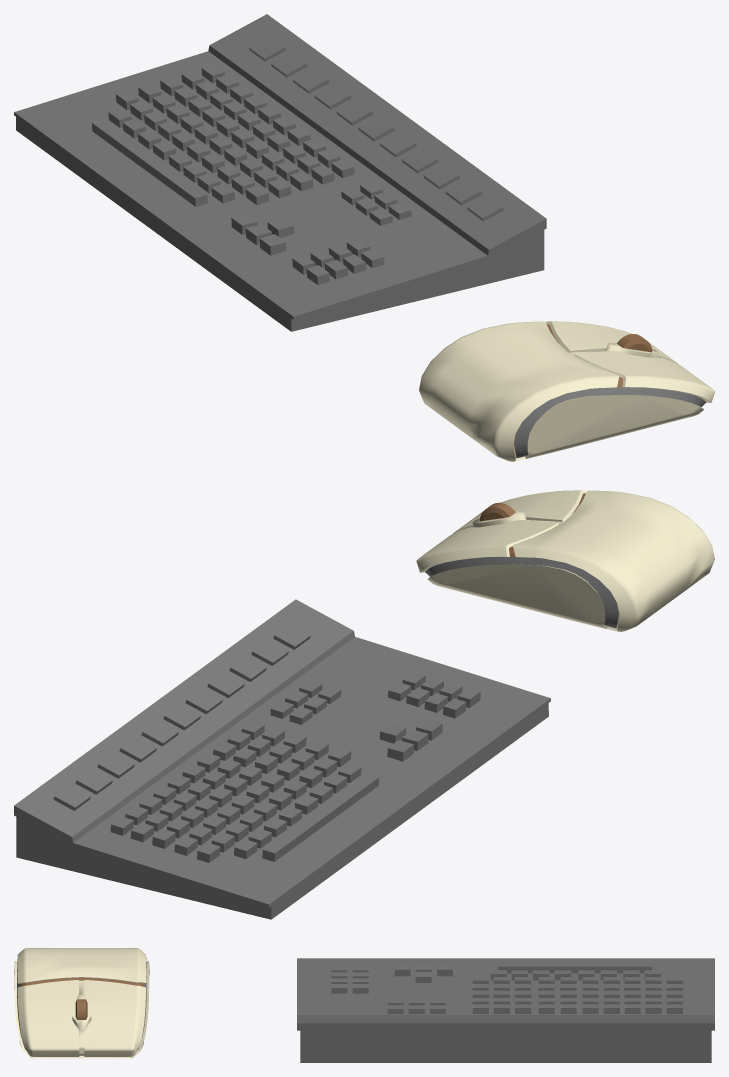
The model's file is Keyboard&Mouse_tier9.fbx.
The picture shows the model from 3 angles, top to bottom: view 1: azimuth 30°, elevation 25°; view 2: azimuth 150°, elevation 25°; view 3: azimuth 270°, elevation 25°; orthographic projection. The views are drawn at different scales.
Parts seen in each view (by area): view 1: Cube, Cylinder, Cube.003, Cube.008, Cube.001, Cube.007, Cube.006, Cube.004, Cube.005; view 2: Cube, Cylinder, Cube.003, Cube.008, Cube.001, Cube.007, Cube.006, Cube.005, Cube.004; view 3: Cube, Cylinder, Cube.003, Cube.001, Cube.008, Cube.007, Cube.006, Cube.004, Cube.005, Cylinder.001.
Boxes of the visible parts, x1,y1,x2,y2 form: Cube: [14, 14, 546, 331]; Cylinder: [419, 321, 714, 461]; Cube.003: [115, 64, 354, 205]; Cube.008: [249, 36, 503, 221]; Cube.001: [92, 108, 234, 206]; Cube.007: [292, 239, 384, 284]; Cube.006: [231, 213, 293, 255]; Cube.004: [360, 181, 411, 219]; Cube.005: [341, 187, 392, 225]; Cube: [14, 599, 550, 919]; Cylinder: [416, 490, 714, 631]; Cube.003: [110, 721, 351, 862]; Cube.008: [53, 624, 310, 810]; Cube.001: [234, 763, 379, 861]; Cube.007: [388, 672, 480, 718]; Cube.006: [379, 719, 442, 761]; Cube.005: [289, 686, 341, 724]; Cube.004: [270, 680, 322, 718]; Cube: [297, 958, 714, 1062]; Cylinder: [14, 948, 149, 1058]; Cube.003: [472, 977, 682, 1013]; Cube.001: [490, 963, 660, 980]; Cube.008: [333, 1015, 683, 1020]; Cube.007: [331, 966, 368, 993]; Cube.006: [394, 964, 452, 982]; Cube.004: [387, 1005, 445, 1013]; Cube.005: [387, 999, 445, 1005]; Cylinder.001: [75, 999, 87, 1019].
Bounding box in the file's own units: 0.3689 × 0.0971 × 1.18.
